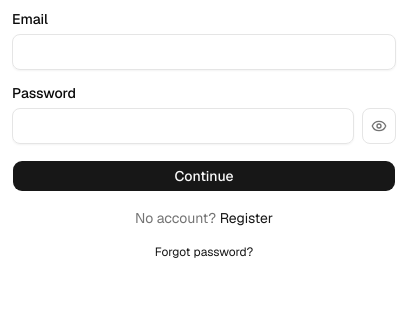
Test: LoginForm › shows email verification error when backend returns EMAIL_NOT_VERIFIED code
Type "a@b.com" into the field labelled "Email".
click(204, 52); type("a@b.com")  # box [12,34,396,70]
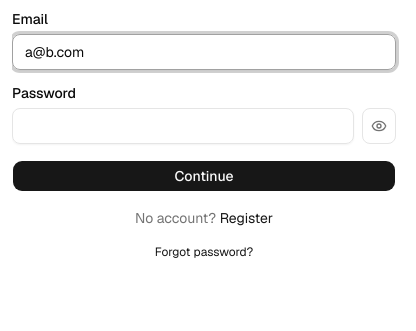
Type "secret1234" into the password field labelled "Password".
click(183, 126); type("secret1234")  # box [12,108,354,144]
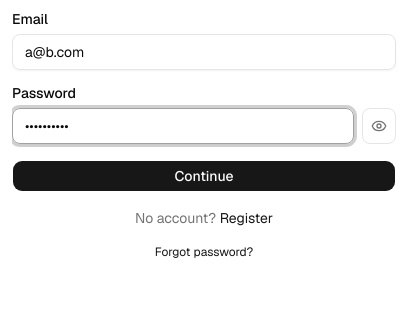
Click the button "Continue".
click(204, 176)  # box [12,160,396,192]
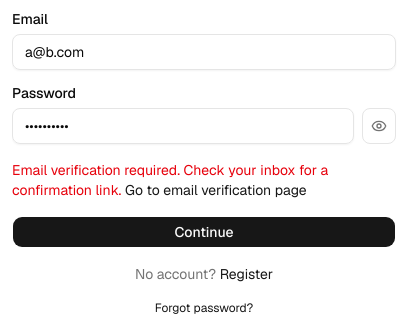
Expected: the text "Email verification required." is shown, [12,161,328,199]
